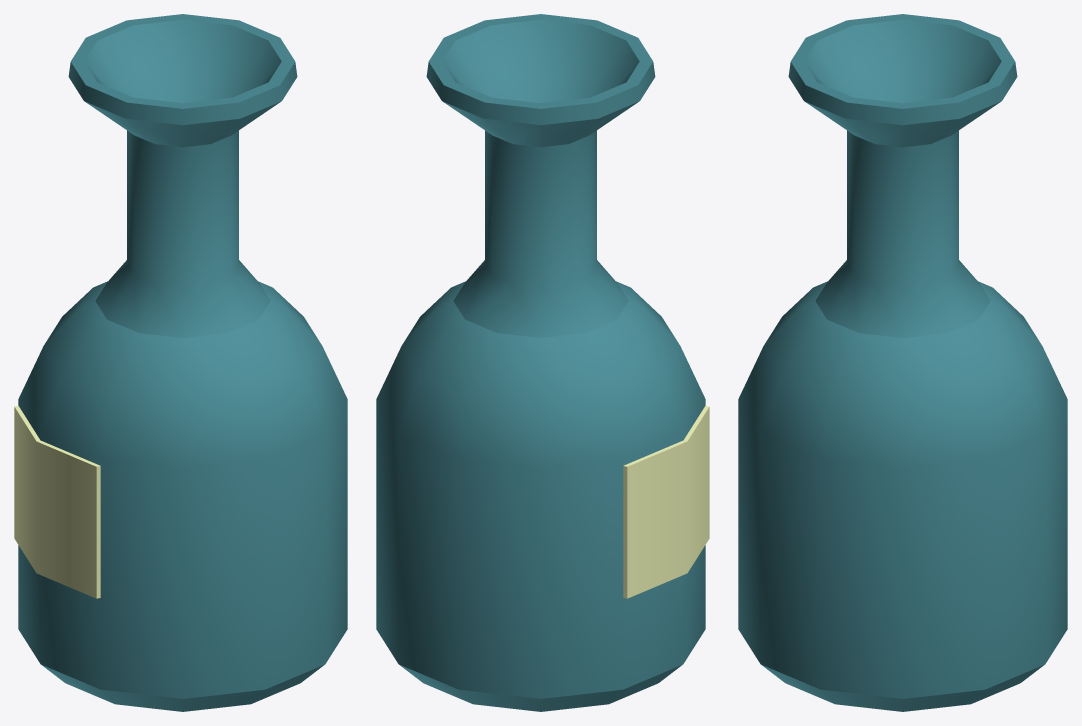
File: GB_077_bottle.glb
3 views of the same model, side by side, from view 1: azimuth 30°, elevation 25°; view 2: azimuth 150°, elevation 25°; view 3: azimuth 270°, elevation 25° (orthographic).
Visible parts, largest first — view 1: Bottle; view 2: Bottle; view 3: Bottle.
Boxes of the visible parts, x1=… form: Bottle: x1=14, y1=14, x2=347, y2=711; Bottle: x1=376, y1=14, x2=709, y2=711; Bottle: x1=738, y1=14, x2=1067, y2=711.
Size of the model in its own units: 0.3832 by 0.7515 by 0.3779.
